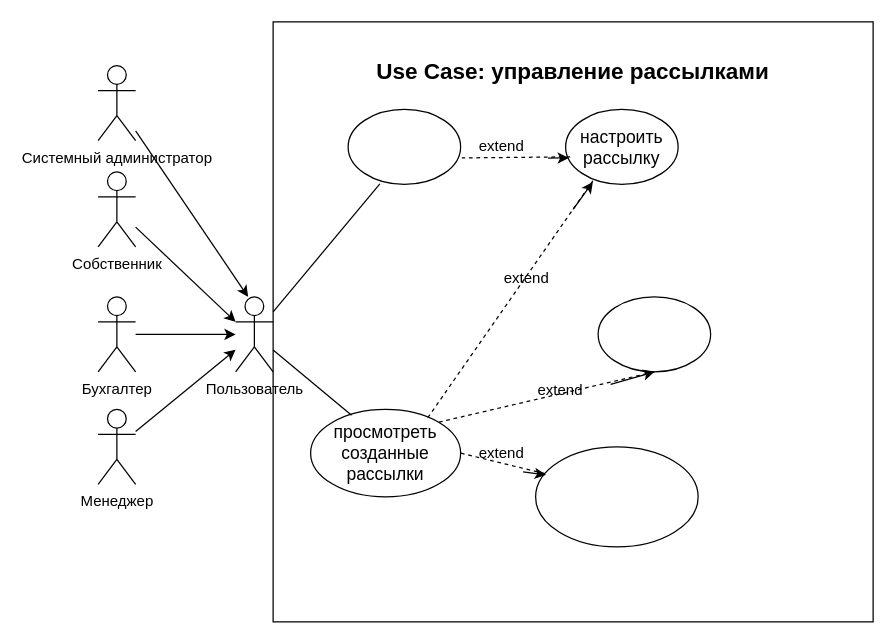
Image size: 895x644. Some labels were removed from this diagram. Here are the shapes that lost their labels. From the top down, the centre of each, then its label:
the point at 404,146: Создать рассылку
the point at 654,334: отключить рассылку
the point at 616,496: редактировать настройки рассылки
